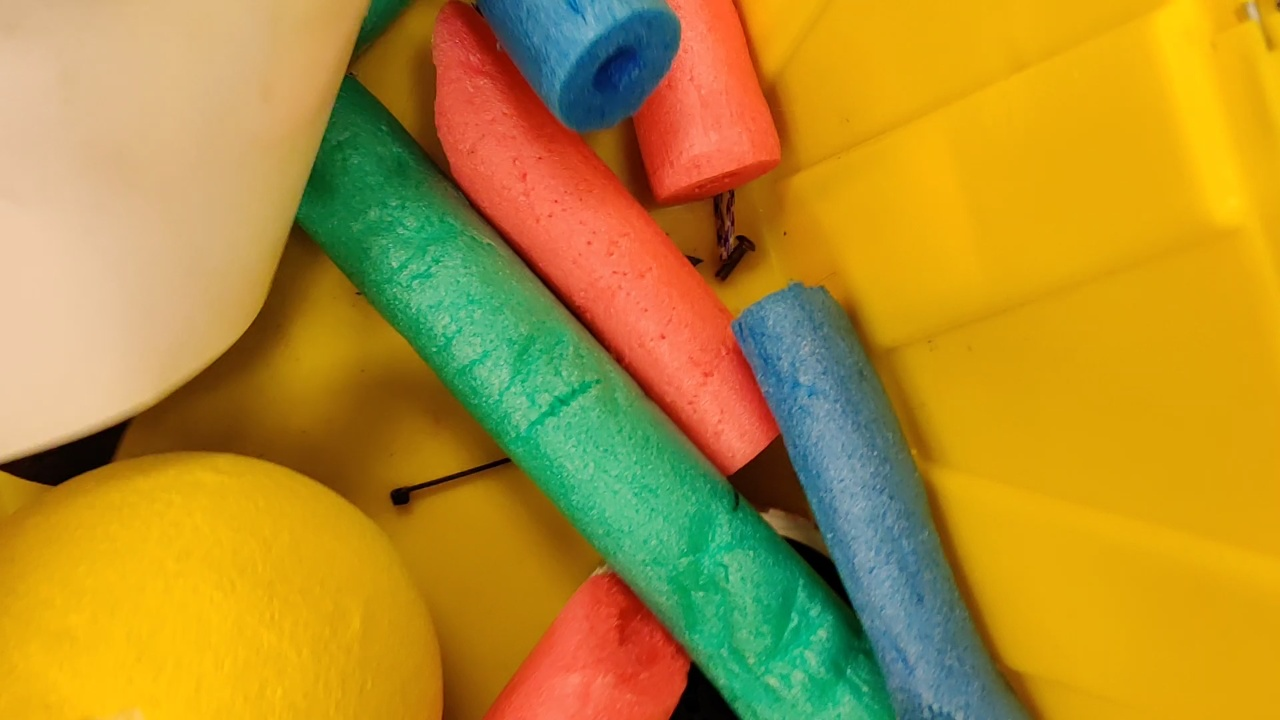Ball: (2, 449, 443, 720)
